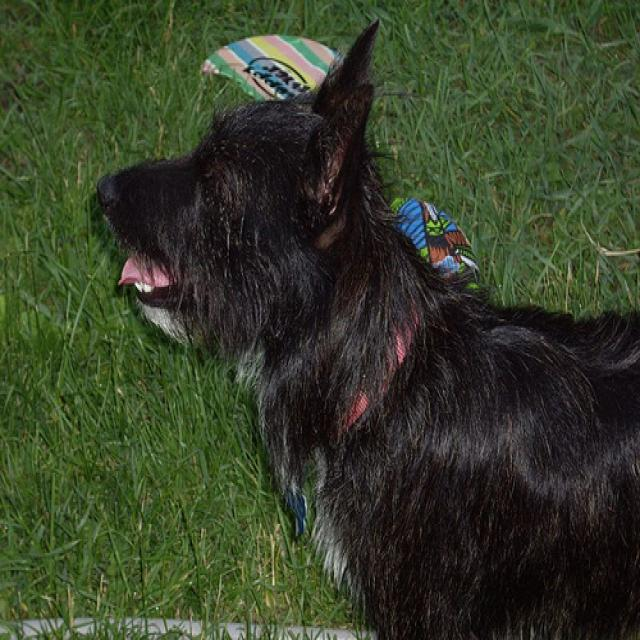dog-scottish_terrier: (96, 22, 637, 637)
